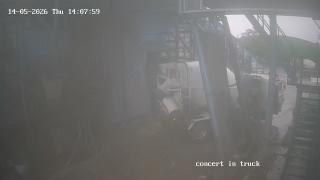cement_mixer_truck: (150, 55, 284, 141)
